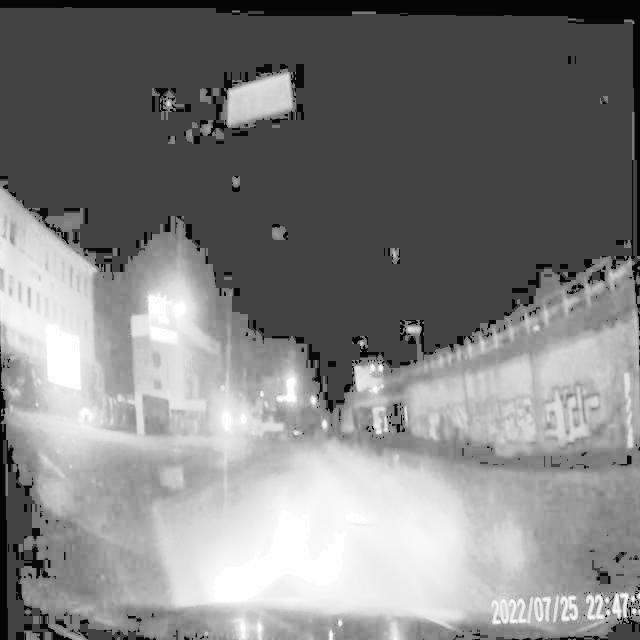Pothole: (336, 504, 390, 536)
